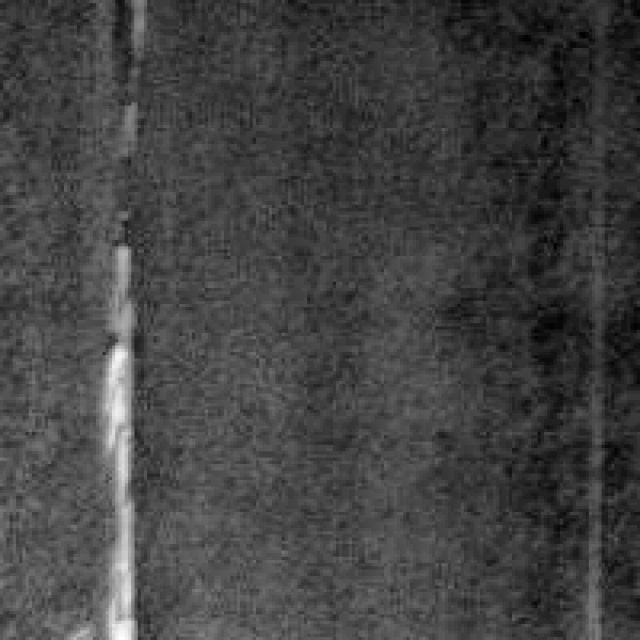Inclusion: (86, 240, 141, 637)
